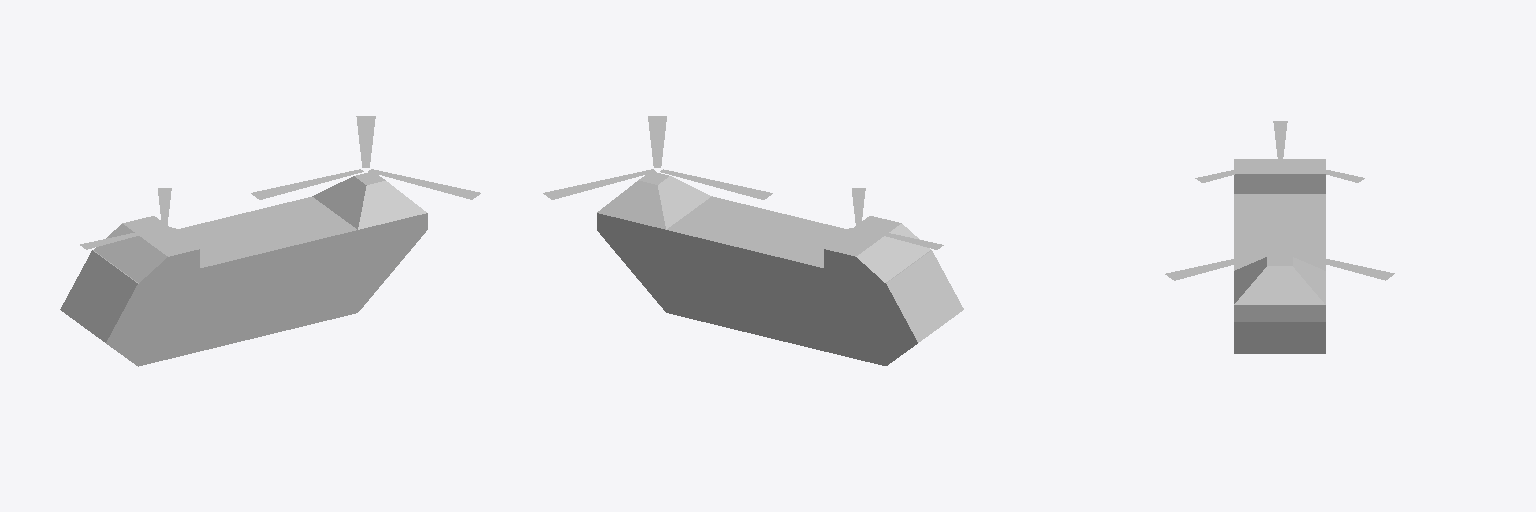
The model's file is enigma_helicopter_v2_tri.test.obj.
3 views of the same model, side by side, from view 1: azimuth 30°, elevation 25°; view 2: azimuth 150°, elevation 25°; view 3: azimuth 270°, elevation 25° (orthographic).
Parts seen in each view (by area): view 1: Cube, Cube.002_Cube.003, Cube.001_Cube.002; view 2: Cube, Cube.002_Cube.003, Cube.001_Cube.002; view 3: Cube, Cube.002_Cube.003, Cube.001_Cube.002.
Boxes of the visible parts, <box> form: Cube: <box>60,172,427,366</box>; Cube.002_Cube.003: <box>251,116,480,199</box>; Cube.001_Cube.002: <box>80,188,249,249</box>; Cube: <box>597,172,963,365</box>; Cube.002_Cube.003: <box>543,116,772,199</box>; Cube.001_Cube.002: <box>775,188,943,249</box>; Cube: <box>1234,159,1325,353</box>; Cube.002_Cube.003: <box>1165,196,1394,280</box>; Cube.001_Cube.002: <box>1195,121,1364,182</box>.
Size of the model in its own units: 8.73 by 2.86 by 5.04.